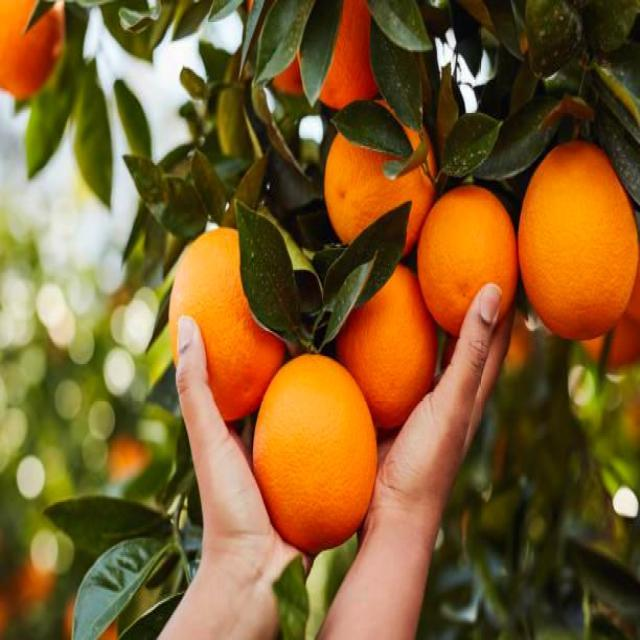Jeruk Sudah Matang: (518, 135, 640, 339), (256, 352, 377, 548), (168, 224, 284, 425), (326, 259, 436, 433), (323, 94, 436, 254), (421, 185, 519, 342), (279, 3, 383, 115), (0, 0, 66, 100)
